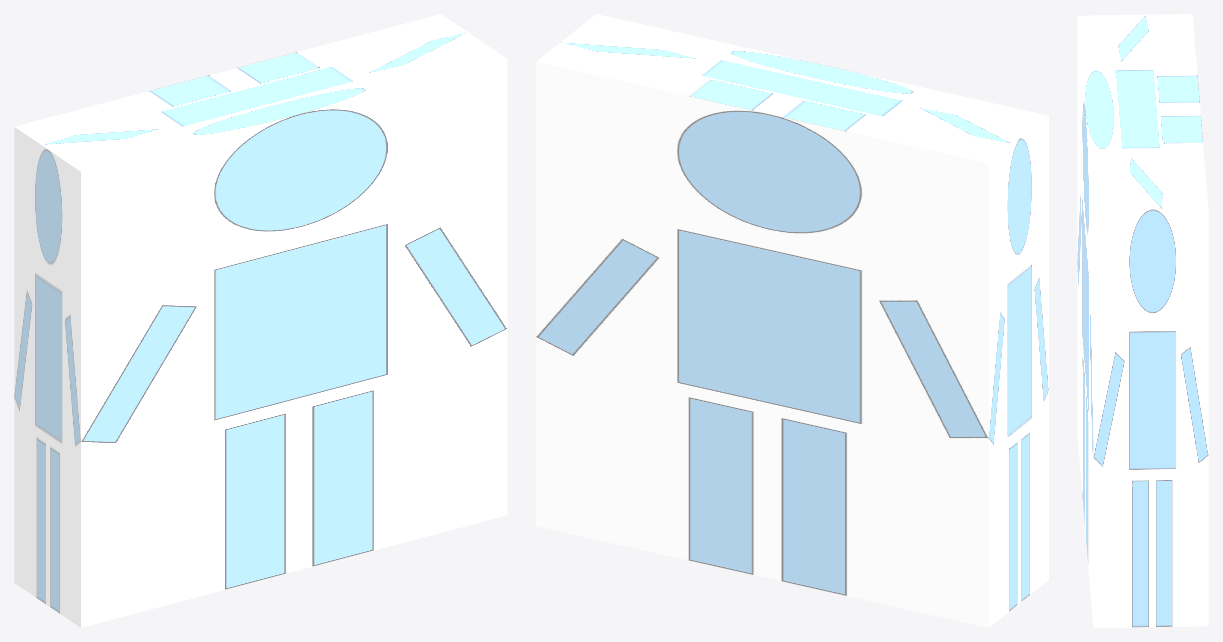
The model's file is DefaultAvatar.gltf.
The picture shows the model from 3 angles, left to right: view 1: azimuth 30°, elevation 25°; view 2: azimuth 150°, elevation 25°; view 3: azimuth 270°, elevation 25°; orthographic projection. The views are drawn at different scales.
Visible parts, largest first — view 1: Cube; view 2: Cube; view 3: Cube.
Part boxes in pixels (x1,y1,x2,y2): Cube: (14,14,507,627); Cube: (536,14,1048,627); Cube: (1077,14,1208,627).
Bounding box in the file's own units: 2.02 × 2 × 0.5695.
1 material, 1 textured.
